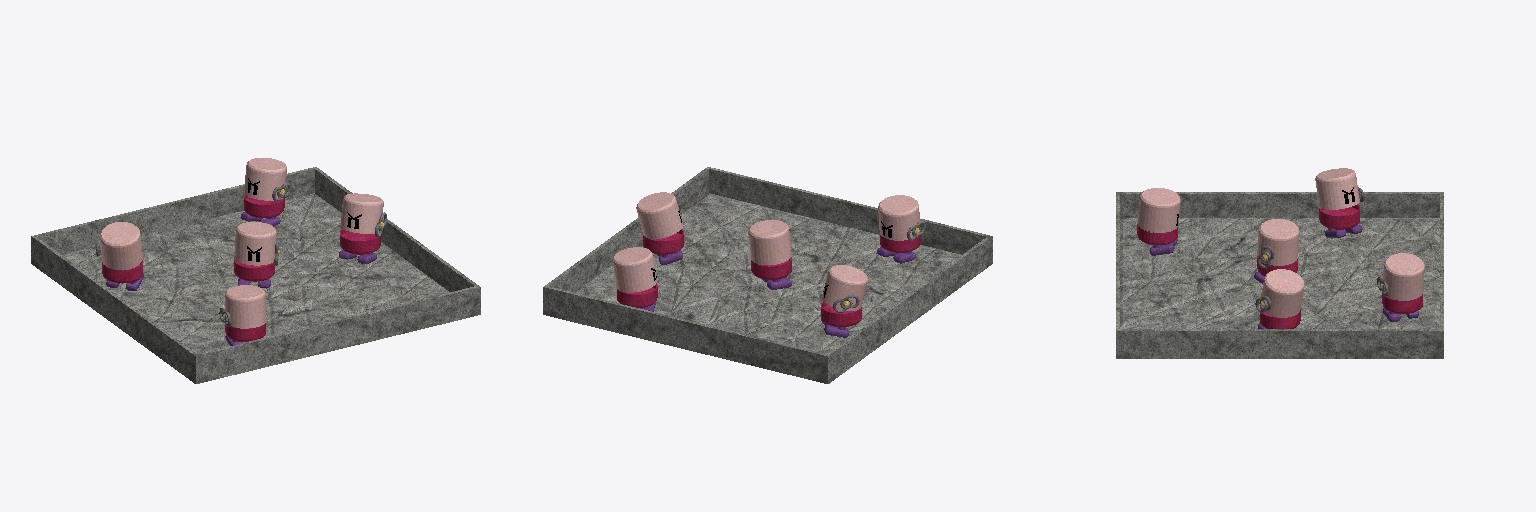
The picture shows the model from 3 angles: view 1: azimuth 30°, elevation 25°; view 2: azimuth 150°, elevation 25°; view 3: azimuth 270°, elevation 25°; orthographic projection.
Parts seen in each view (by area): view 1: Box01, Head02, Head, Head04, Head03, Head01, Jaw01, Jaw03, Jaw, Jaw02; view 2: Box01, Head01, Head, Head03, Head04, Head02, Jaw02, Jaw01, Jaw03, Jaw; view 3: Box01, Head03, Head04, Head01, Head02, Head, Jaw02, Jaw03.
Part boxes in pixels (bbox=[...]): Box01: bbox=[31, 167, 480, 383]; Head02: bbox=[100, 222, 142, 270]; Head: bbox=[234, 222, 276, 265]; Head04: bbox=[225, 285, 265, 328]; Head03: bbox=[244, 158, 286, 200]; Head01: bbox=[340, 193, 383, 233]; Jaw01: bbox=[340, 229, 380, 254]; Jaw03: bbox=[244, 194, 284, 217]; Jaw: bbox=[234, 258, 274, 281]; Jaw02: bbox=[102, 260, 142, 283]; Box01: bbox=[543, 167, 992, 383]; Head01: bbox=[636, 192, 682, 238]; Head: bbox=[748, 220, 791, 265]; Head03: bbox=[612, 247, 656, 292]; Head04: bbox=[878, 195, 919, 240]; Head02: bbox=[822, 265, 867, 310]; Jaw02: bbox=[821, 301, 861, 326]; Jaw01: bbox=[643, 229, 683, 254]; Jaw03: bbox=[617, 283, 657, 307]; Jaw: bbox=[751, 257, 791, 279]; Box01: bbox=[1116, 192, 1443, 358]; Head03: bbox=[1383, 253, 1424, 300]; Head04: bbox=[1137, 188, 1180, 232]; Head01: bbox=[1261, 269, 1303, 317]; Head02: bbox=[1315, 168, 1359, 209]; Head: bbox=[1257, 219, 1299, 265]; Jaw02: bbox=[1319, 204, 1359, 229]; Jaw03: bbox=[1382, 293, 1422, 313].
Bounding box in the file's own units: 800 × 180 × 800.
Materials: 7 (6 with a texture image).